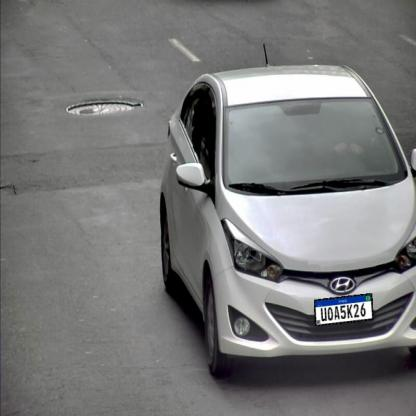PlacaM: (314, 293, 373, 326)
